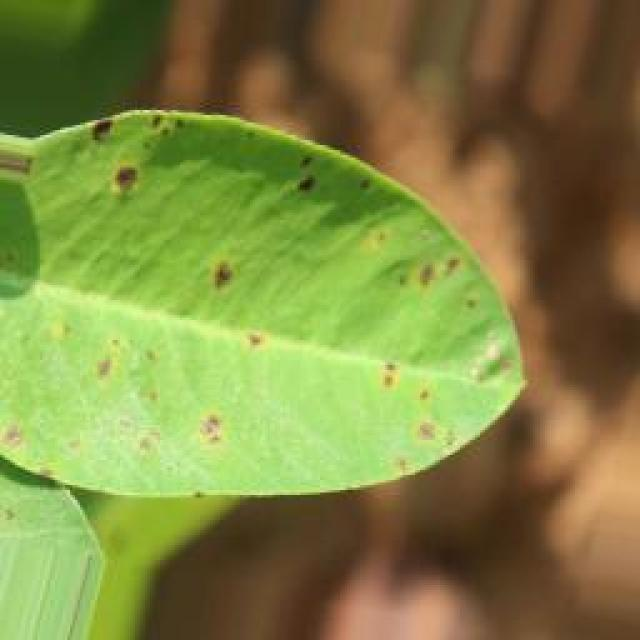Sigatoka: (25, 306, 178, 410), (378, 220, 502, 314), (78, 102, 198, 196), (357, 356, 459, 439), (448, 296, 532, 394), (78, 400, 174, 467), (172, 385, 252, 461), (201, 302, 289, 371), (261, 144, 340, 217), (342, 142, 412, 221), (168, 245, 253, 292), (0, 387, 49, 441)
